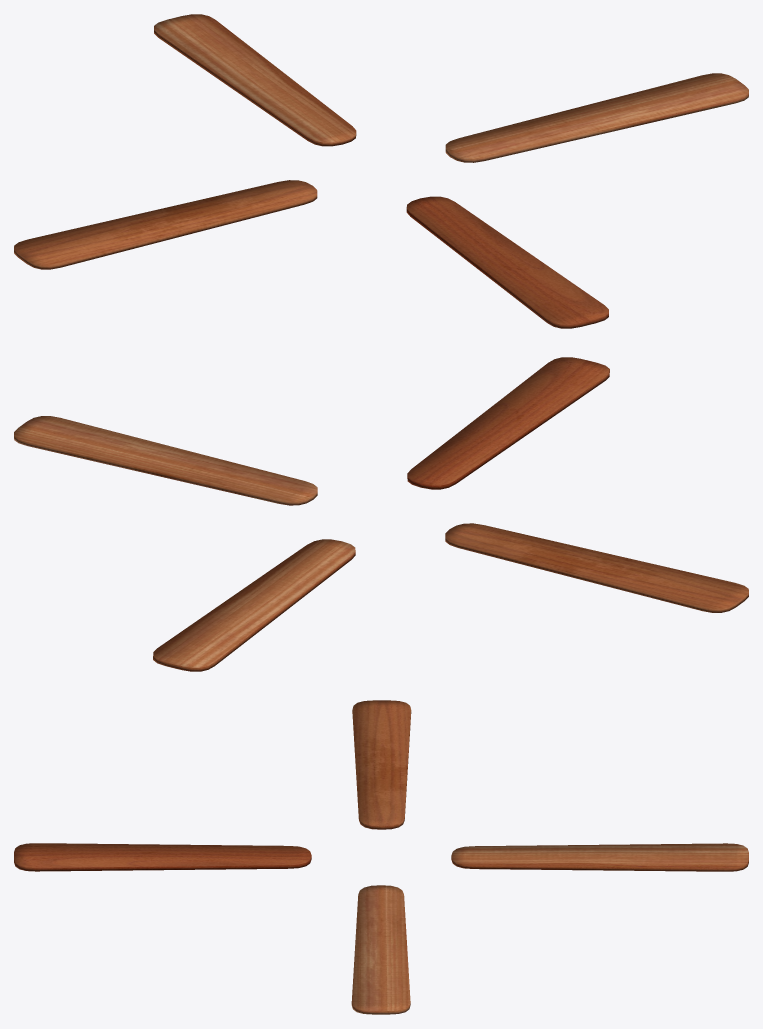
File: helices2.obj
The picture shows the model from 3 angles, top to bottom: view 1: azimuth 30°, elevation 25°; view 2: azimuth 150°, elevation 25°; view 3: azimuth 270°, elevation 25°; orthographic projection. The views are drawn at different scales.
Visible parts, largest first — view 1: lampara5h; view 2: lampara5h; view 3: lampara5h.
Part boxes in pixels (x1,y1,x2,y2): lampara5h: (14, 14, 748, 328); lampara5h: (14, 357, 748, 671); lampara5h: (14, 700, 748, 1014).
Size of the model in its own units: 5.02 by 0.0267 by 5.02.
1 material, 1 textured.
